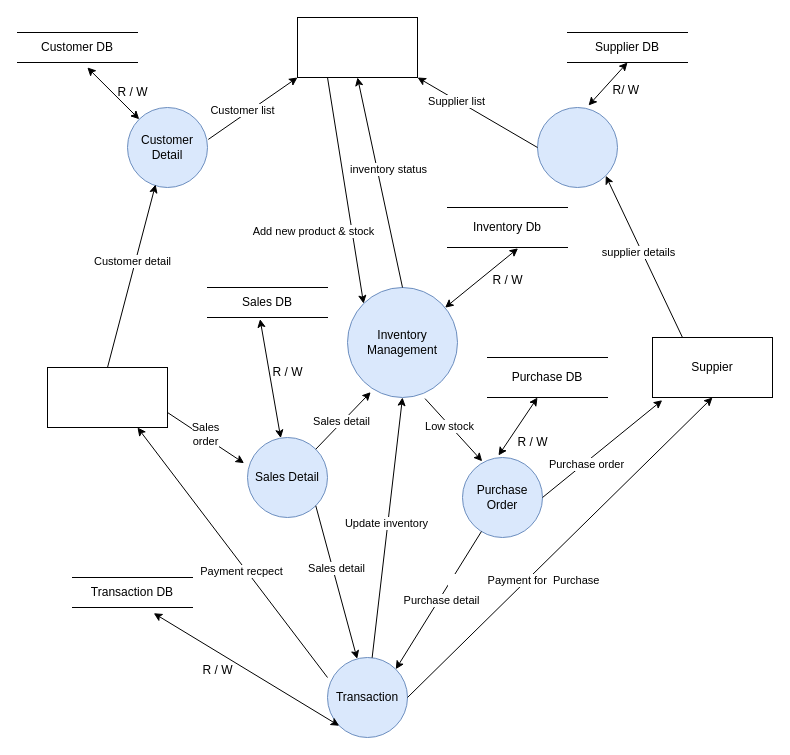
Image size: 790x755. Some labels were removed from this diagram. The box of each missing label's shape, as (x1, y1, x2, y2) in pixels:
Admin: (296, 16, 418, 78)
Customer: (46, 366, 168, 428)
Supplier Detail: (536, 106, 618, 188)
